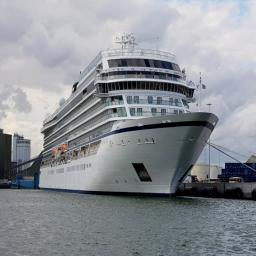cruises: (38, 27, 220, 209)
